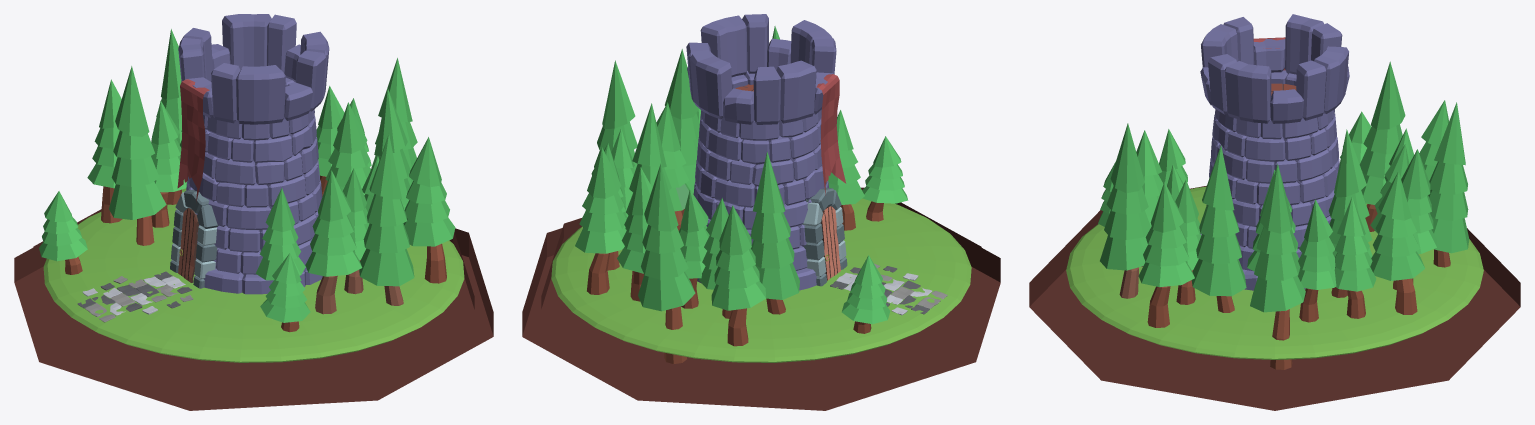
The picture shows the model from 3 angles, left to right: view 1: azimuth 30°, elevation 25°; view 2: azimuth 150°, elevation 25°; view 3: azimuth 270°, elevation 25°; orthographic projection.
Parts seen in each view (by area): view 1: trees_21, tower.002_27, grass_7, peana_12, flag_11, trunks_23, portapedra1_18, trees.001_26, door1_13, rockdf1_8, portapedra2_20, rocksf3_10 (+2 smaller); view 2: trees_21, grass_7, peana_12, tower.002_27, trunks_23, flag_11, portapedra1_18, door1_13, portapedra2_20, rocksf2_9, rockdf1_8, rocksf3_10; view 3: trees_21, peana_12, tower.002_27, grass_7, trunks_23, trees.001_26.
Boxes of the visible parts, bbox=[...] form: trees_21: bbox=[39, 29, 455, 322]; tower.002_27: bbox=[178, 14, 329, 294]; grass_7: bbox=[43, 188, 464, 362]; peana_12: bbox=[14, 209, 493, 410]; flag_11: bbox=[177, 79, 209, 201]; trunks_23: bbox=[101, 175, 446, 332]; portapedra1_18: bbox=[170, 189, 218, 288]; trees.001_26: bbox=[315, 260, 403, 314]; door1_13: bbox=[178, 208, 196, 282]; rockdf1_8: bbox=[77, 271, 192, 311]; portapedra2_20: bbox=[171, 192, 216, 279]; rocksf3_10: bbox=[85, 276, 193, 322]; trees_21: bbox=[575, 26, 908, 324]; grass_7: bbox=[551, 198, 971, 362]; peana_12: bbox=[522, 187, 1000, 410]; tower.002_27: bbox=[686, 14, 836, 290]; trunks_23: bbox=[587, 201, 883, 363]; flag_11: bbox=[816, 74, 846, 195]; portapedra1_18: bbox=[804, 187, 847, 286]; door1_13: bbox=[822, 206, 840, 280]; portapedra2_20: bbox=[802, 202, 846, 276]; rocksf2_9: bbox=[836, 272, 932, 315]; rockdf1_8: bbox=[830, 266, 929, 314]; rocksf3_10: bbox=[874, 263, 947, 308]; trees_21: bbox=[1098, 61, 1469, 312]; peana_12: bbox=[1029, 186, 1520, 410]; tower.002_27: bbox=[1200, 14, 1349, 290]; grass_7: bbox=[1066, 186, 1483, 359]; trunks_23: bbox=[1147, 204, 1450, 369]; trees.001_26: bbox=[1119, 266, 1142, 298].
Size of the model in its own units: 42.55 by 25.13 by 42.55.
